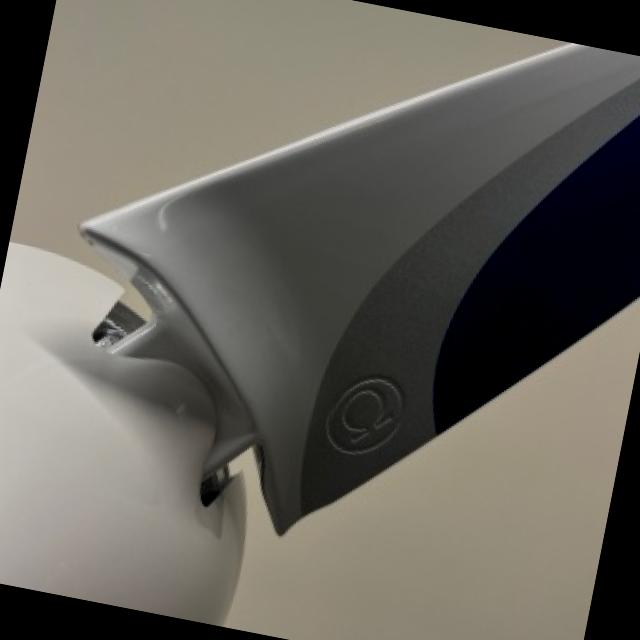healthy: (228, 301, 640, 640), (0, 241, 248, 625)
